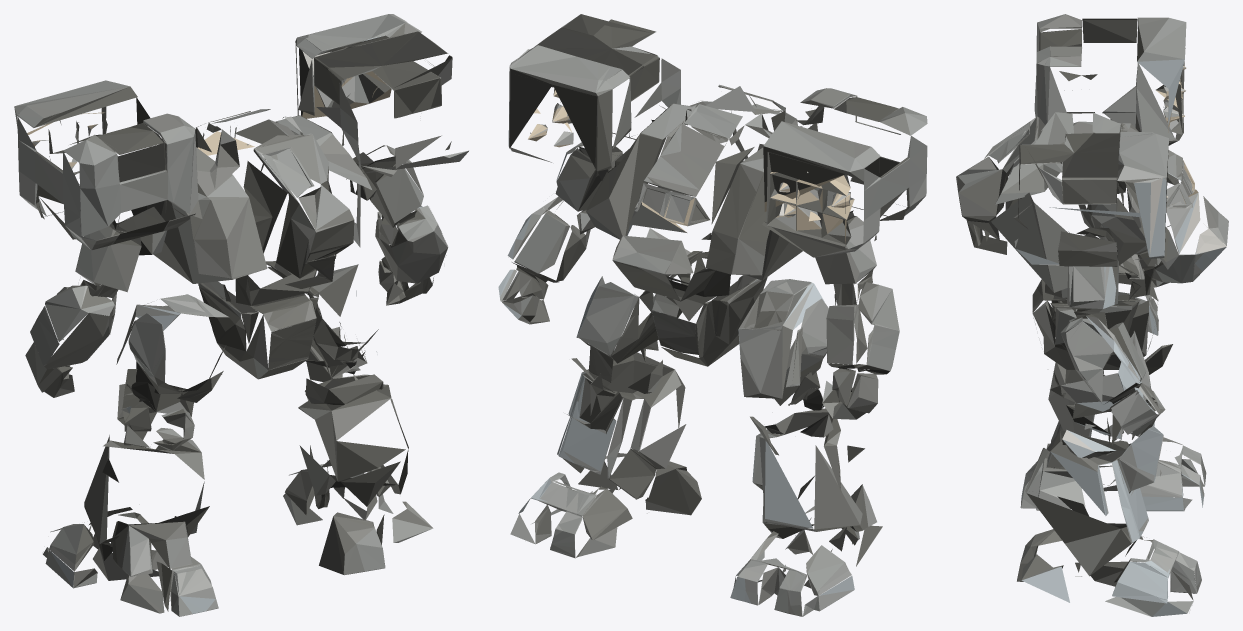
File: halberd.glb
The picture shows the model from 3 angles, left to right: view 1: azimuth 30°, elevation 25°; view 2: azimuth 150°, elevation 25°; view 3: azimuth 270°, elevation 25°; orthographic projection. The views are drawn at different scales.
Parts seen in each view (by area): view 1: torso, shinR, shinL, armL, armR, pelvis, thighL, footL, thighR, footR; view 2: torso, shinR, pelvis, armL, shinL, thighL, armR, footL, thighR, footR, sensors; view 3: torso, shinR, armR, pelvis, footR, shinL, thighR, footL, armL, thighL, sensors.
Boxes of the visible parts, <box> form: torso: <box>14,14,452,305</box>; shinR: <box>298,327,433,575</box>; shinL: <box>84,383,218,616</box>; armL: <box>25,185,167,397</box>; armR: <box>298,60,468,305</box>; pelvis: <box>198,261,318,379</box>; thighL: <box>116,294,228,443</box>; footL: <box>43,507,167,588</box>; thighR: <box>268,264,378,378</box>; footR: <box>283,460,393,544</box>; torso: <box>508,14,927,321</box>; shinR: <box>557,340,701,515</box>; pelvis: <box>612,231,767,366</box>; armL: <box>815,210,899,419</box>; shinL: <box>750,408,882,566</box>; thighL: <box>738,279,828,410</box>; armR: <box>498,78,635,324</box>; footL: <box>730,527,854,616</box>; thighR: <box>576,228,708,382</box>; footR: <box>510,472,647,558</box>; sensors: <box>660,104,824,155</box>; torso: <box>956,14,1200,301</box>; shinR: <box>1017,405,1163,602</box>; armR: <box>1014,231,1165,436</box>; pelvis: <box>1032,196,1228,369</box>; footR: <box>1075,526,1201,616</box>; shinL: <box>1020,344,1172,510</box>; thighR: <box>1050,272,1151,445</box>; footL: <box>1103,437,1206,511</box>; armL: <box>1078,119,1169,287</box>; thighL: <box>1051,254,1158,379</box>; sensors: <box>1059,71,1134,184</box>.
Size of the model in its own units: 10.73 by 12.83 by 6.93.
